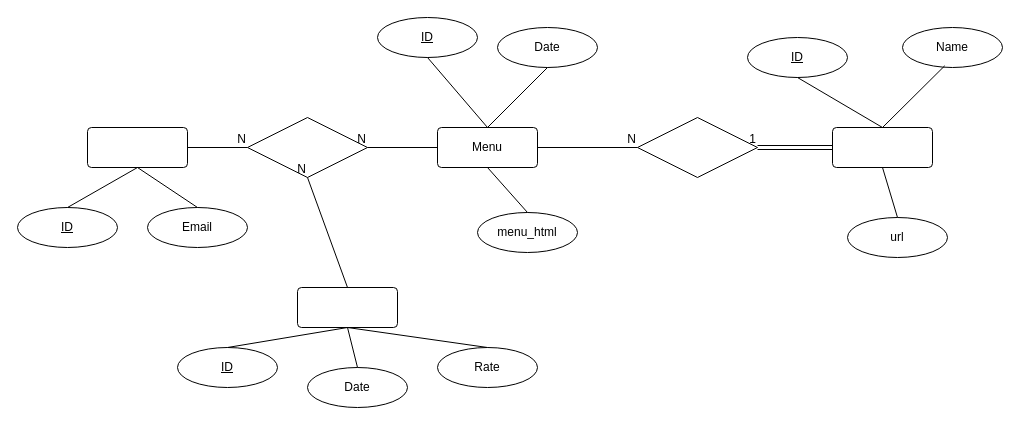
This 1020x425 diagram has some shape labels left out. The shapes that lost their labels are listed below. From the top down, each one's box as (x1, y1, x2, y2) in pixels, then its label:
(86, 126, 188, 168): User
(246, 116, 368, 178): subscribe
(636, 116, 758, 178): has
(832, 126, 932, 168): Mensa
(296, 286, 398, 328): Exchange Rate
